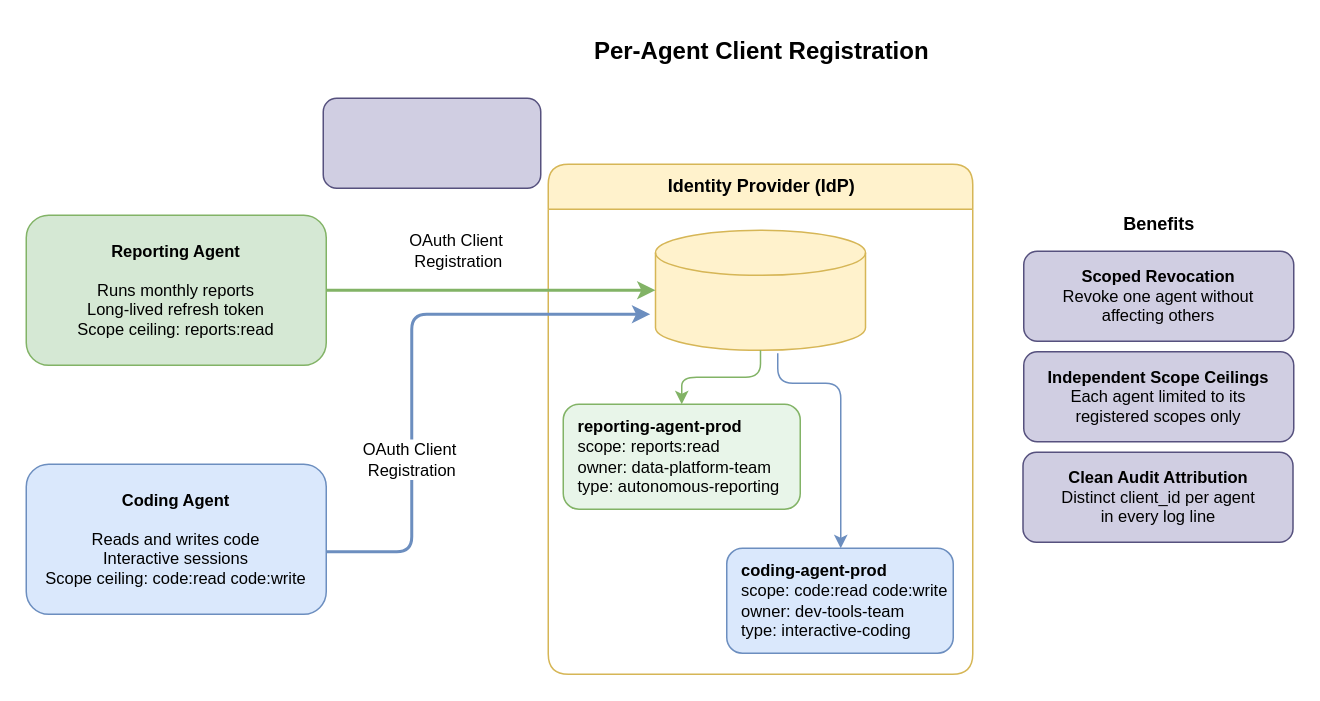
This 1320x701 diagram has some shape labels left out. Here are the shapes that lost their labels. From the top down, the centre of each, then its label:
point 431,142: Automated Onboarding RFC 7591 Dynamic Client Registration
point 760,289: Client Registry
